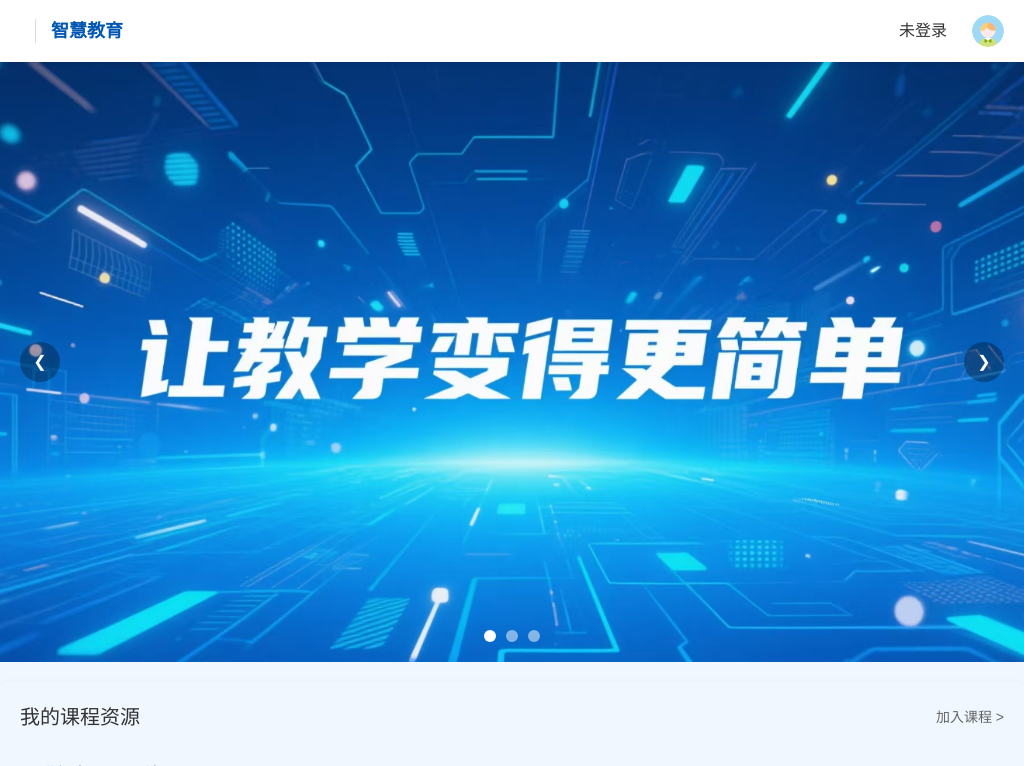
Test case: 学生首页集成测试 › 点击加入课程弹窗应出现
The image size is (1024, 766).
Click the link "加入课程 >" at coordinates (970, 718), box [936,707,1004,728]
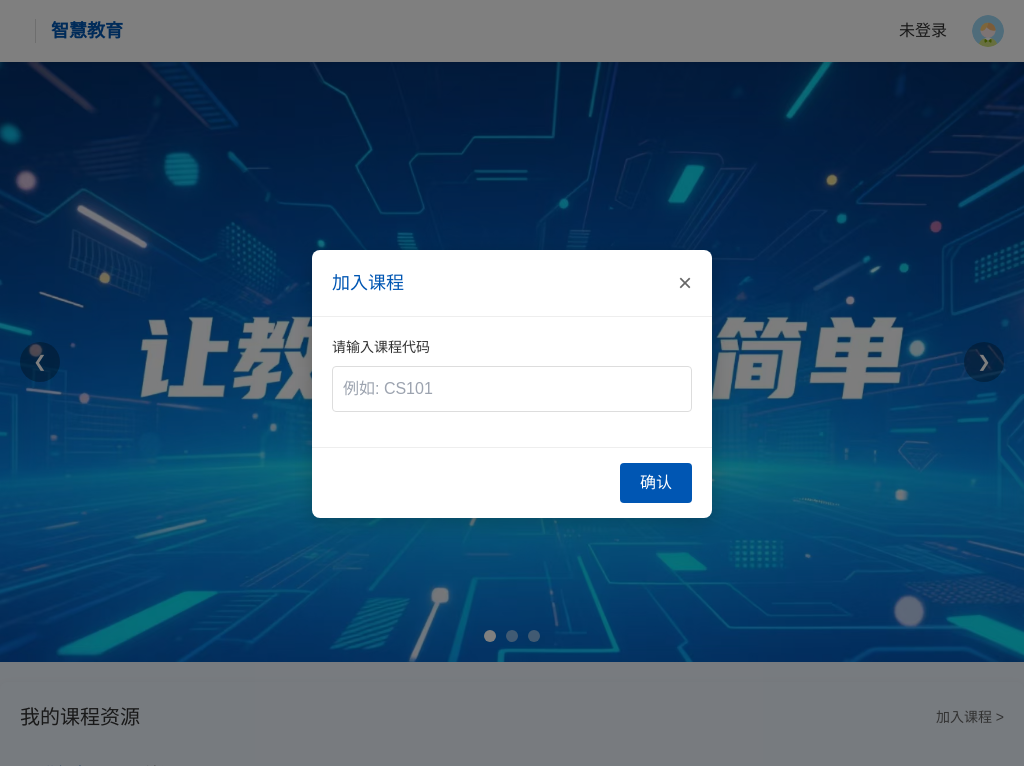
Result: the text "请输入课程代码" is shown at [332,339,430,355]
